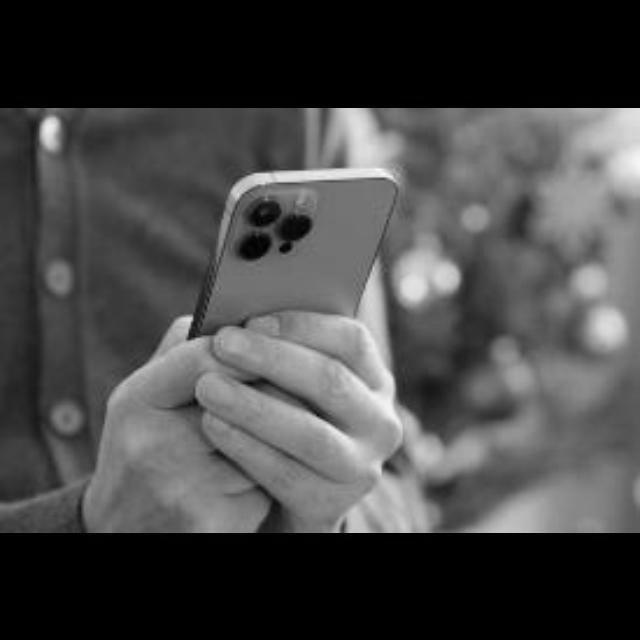fake: (156, 160, 440, 487)
